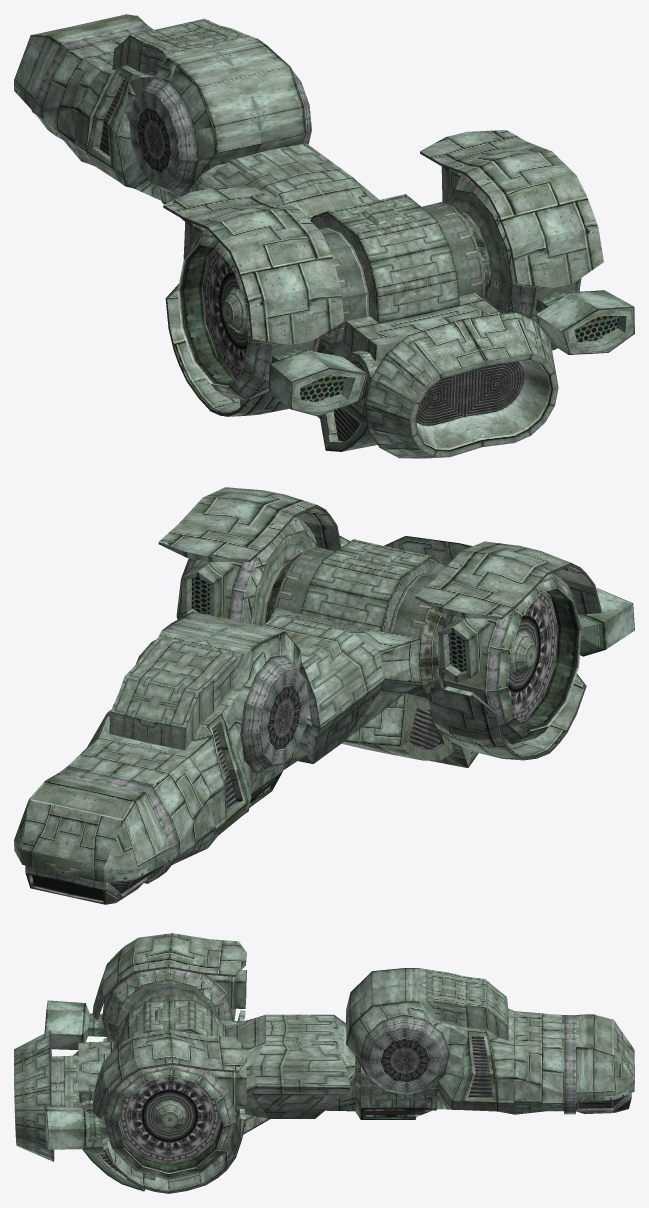
The model's file is ymir corvette.obj.
3 renders of one model, top to bottom at view 1: azimuth 30°, elevation 25°; view 2: azimuth 150°, elevation 25°; view 3: azimuth 270°, elevation 25°, orthographic. The views are drawn at different scales.
Visible parts, largest first — view 1: polySurface1_polySurface947; view 2: polySurface1_polySurface947; view 3: polySurface1_polySurface947.
Part boxes in pixels (x1,y1,x2,y2): polySurface1_polySurface947: (14, 14, 634, 458); polySurface1_polySurface947: (14, 487, 634, 904); polySurface1_polySurface947: (14, 933, 634, 1193).
Size of the model in its own units: 8.94 by 6.13 by 18.63.
3 materials, 2 textured.
